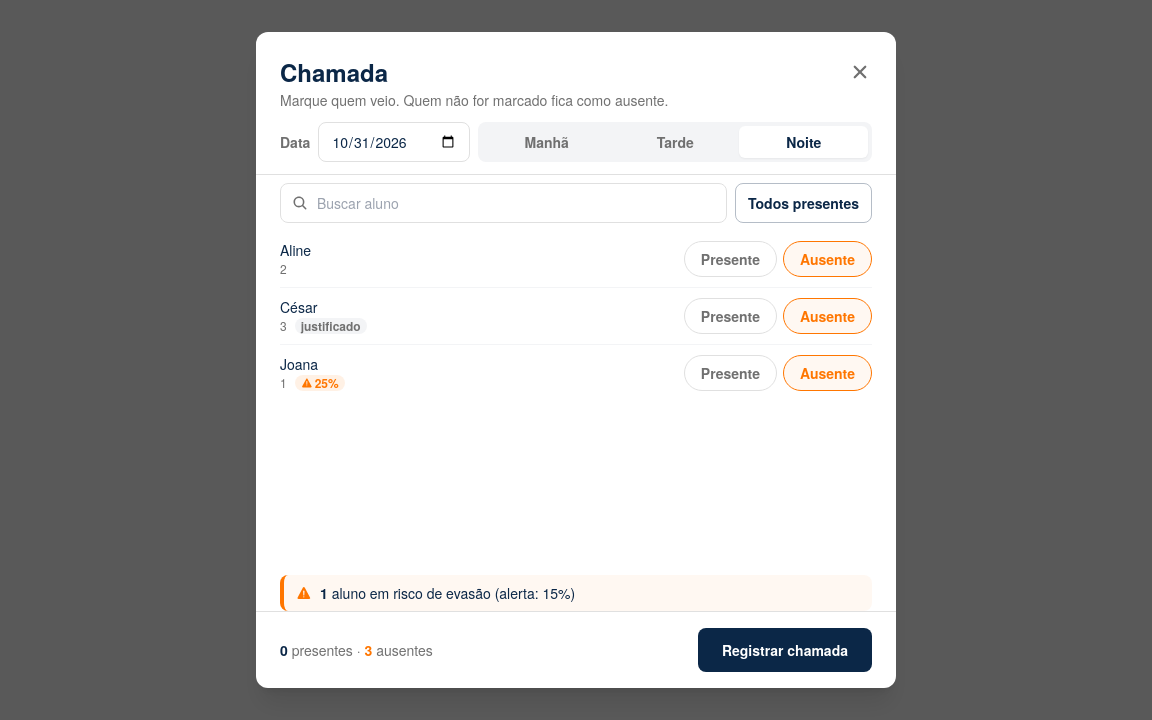
Scenario: Novo Registro (tickets-documentacao, 11) › risco de evasão (tickets/054, card 04) › selo e resumo seguem os toques
Expected: the element named "risco de evasão, 25% de faltas" is shown, left=295, top=375, right=345, bottom=391
Expected: the text "1 aluno em risco de evasão (alerta: 15%)" is shown, left=320, top=583, right=575, bottom=603
Click the button "Presente" in the row of "Joana": click(730, 373) left=684, top=355, right=777, bottom=391
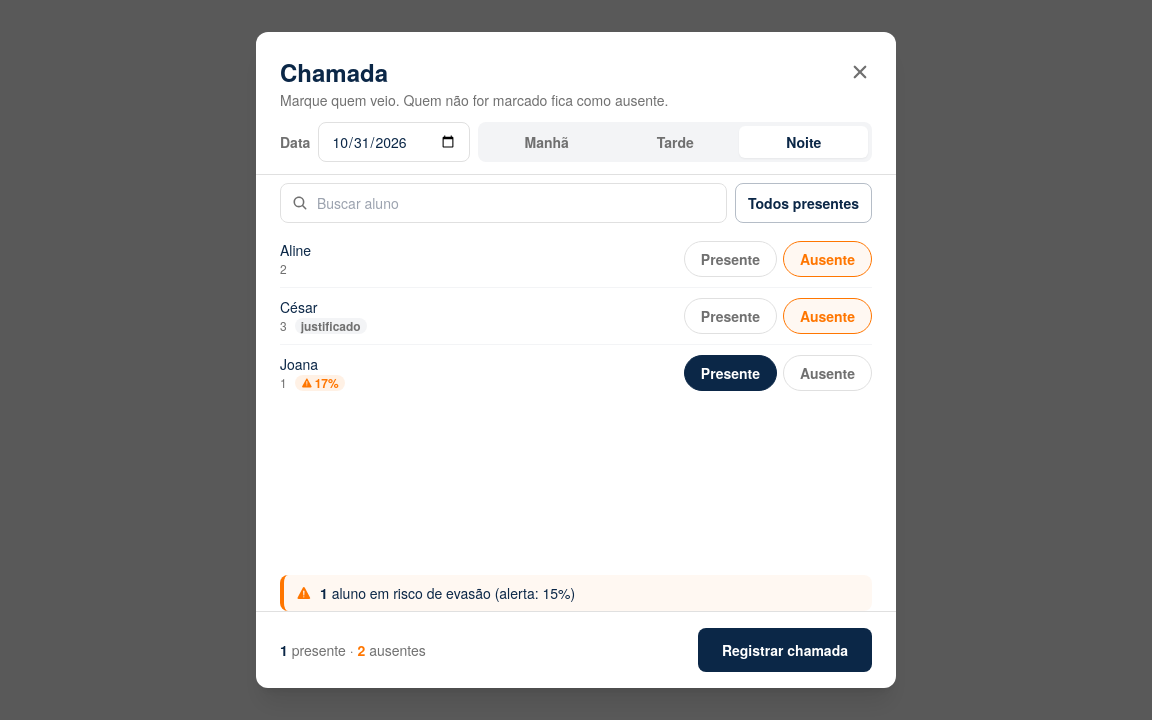
Now the element named "risco de evasão, 17% de faltas" is shown, box left=295, top=375, right=345, bottom=391
